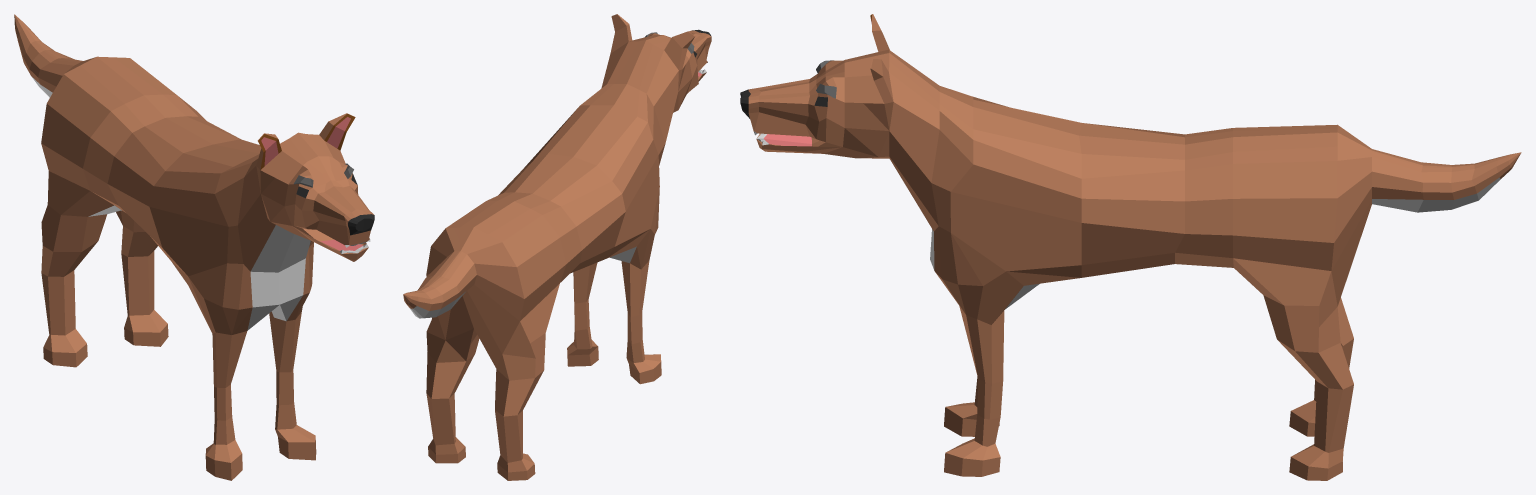
3 renders of one model, left to right at view 1: azimuth 30°, elevation 25°; view 2: azimuth 150°, elevation 25°; view 3: azimuth 270°, elevation 25°, orthographic. The views are drawn at different scales.
Parts seen in each view (by area): view 1: Cylinder, tete, jambeArriereDroite, jambeArriereGauche, jambeAvantDroite, jambeAvantGauche, queue; view 2: Cylinder, jambeArriereDroite, jambeArriereGauche, tete, queue, jambeAvantDroite, jambeAvantGauche; view 3: Cylinder, tete, jambeArriereGauche, queue, jambeAvantGauche, jambeArriereDroite, jambeAvantDroite.
Part boxes in pixels (x1,y1,x2,y2): Cylinder: [41, 56, 313, 371]; tete: [256, 113, 374, 261]; jambeArriereDroite: [41, 205, 106, 367]; jambeArriereGauche: [116, 210, 168, 346]; jambeAvantDroite: [205, 331, 247, 480]; jambeAvantGauche: [269, 311, 316, 460]; queue: [14, 14, 82, 97]; Cylinder: [404, 40, 678, 368]; jambeArriereDroite: [495, 333, 545, 480]; jambeArriereGauche: [426, 332, 479, 463]; tete: [610, 14, 711, 109]; queue: [403, 251, 476, 318]; jambeAvantDroite: [621, 261, 661, 384]; jambeAvantGauche: [567, 262, 598, 366]; Cylinder: [816, 50, 1371, 381]; tete: [740, 14, 893, 158]; jambeArriereGauche: [1263, 295, 1353, 480]; queue: [1372, 149, 1521, 212]; jambeAvantGauche: [944, 306, 1004, 476]; jambeArriereDroite: [1289, 297, 1353, 436]; jambeAvantDroite: [944, 376, 999, 436].
Bounding box in the file's own units: 0.7368 × 2.04 × 3.51.
Materials: 1 (1 with a texture image).
